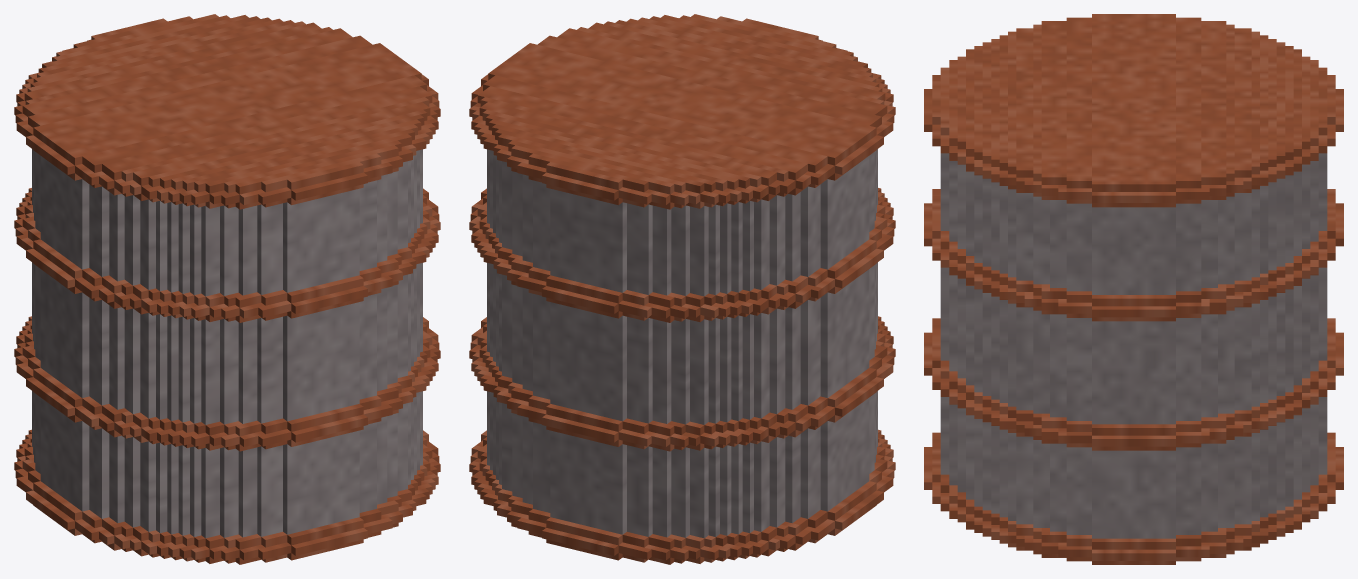
The model's file is MediumObject_Barrel.fbx.
The picture shows the model from 3 angles, left to right: view 1: azimuth 30°, elevation 25°; view 2: azimuth 150°, elevation 25°; view 3: azimuth 270°, elevation 25°; orthographic projection.
Visible parts, largest first — view 1: Barrel; view 2: Barrel; view 3: Barrel.
Part boxes in pixels (x1,y1,x2,y2): Barrel: (14, 14, 440, 564); Barrel: (469, 14, 895, 564); Barrel: (924, 14, 1343, 564).
Size of the model in its own units: 50 by 50 by 50.
